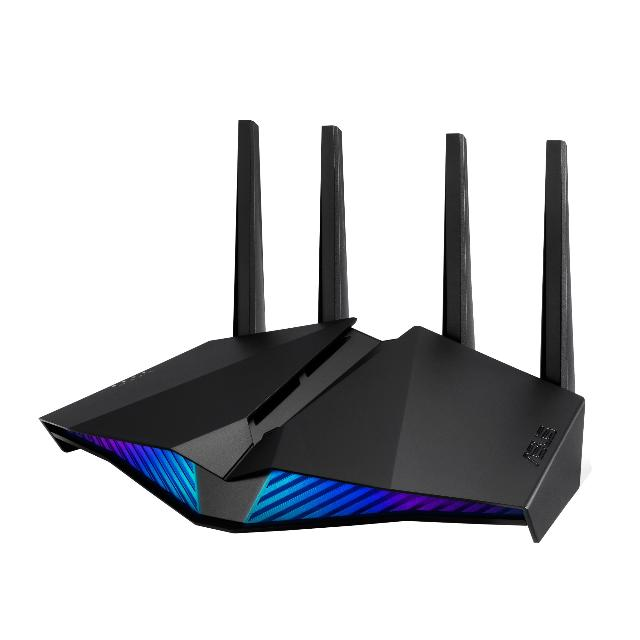Router: (39, 120, 588, 544)
